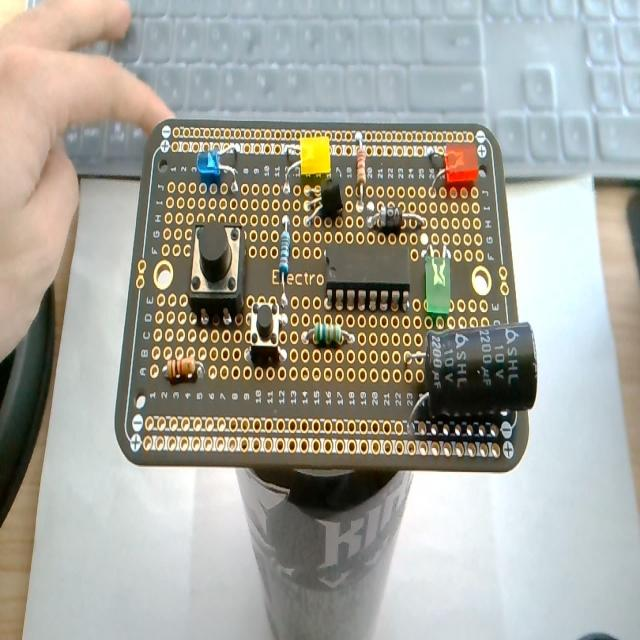Electrolytic capacitor: (405, 322, 537, 444), (424, 320, 537, 414)
IC: (325, 240, 409, 309)
diode: (368, 203, 422, 232)
led: (426, 142, 482, 198), (422, 243, 452, 319), (196, 144, 240, 190), (300, 135, 331, 183)
resistor: (352, 128, 376, 215), (276, 216, 292, 319), (302, 322, 356, 349), (162, 352, 204, 382)
switch: (187, 217, 248, 324), (249, 299, 286, 364)
transistor: (299, 182, 349, 238)
